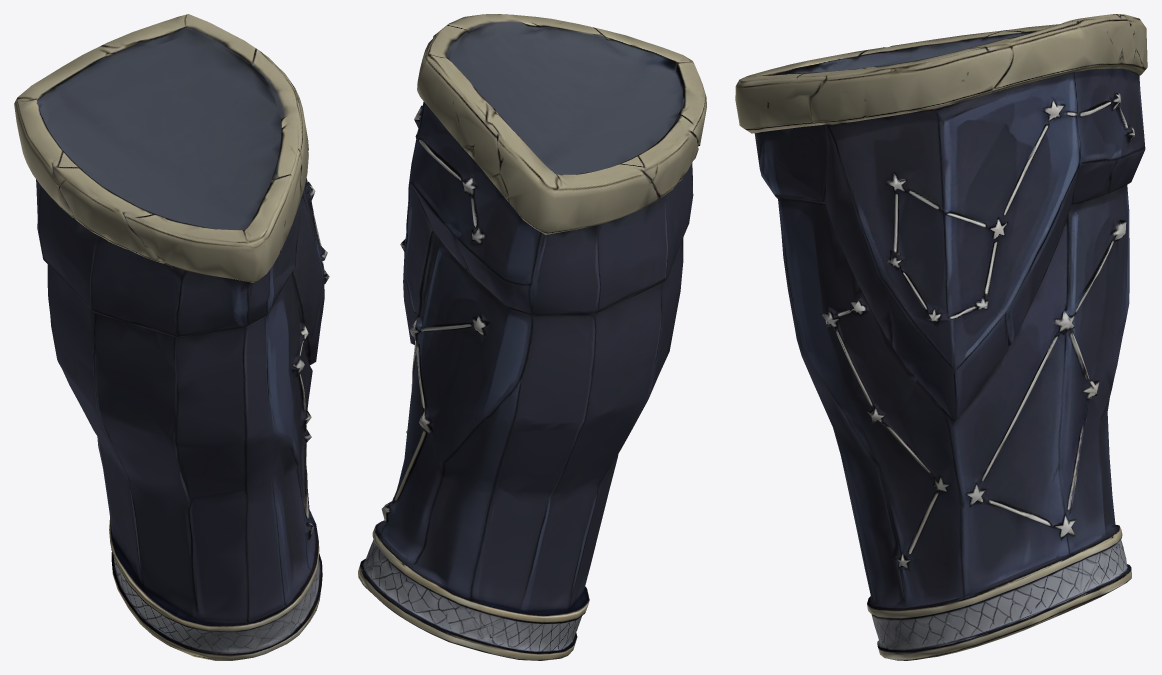
Rendered from boss_thigh.glb.
3 renders of one model, left to right at view 1: azimuth 30°, elevation 25°; view 2: azimuth 150°, elevation 25°; view 3: azimuth 270°, elevation 25°, orthographic. The views are drawn at different scales.
Visible parts, largest first — view 1: tripo_node_38315b99-1ad6-4107-8e36-4695ac2e2f63; view 2: tripo_node_38315b99-1ad6-4107-8e36-4695ac2e2f63; view 3: tripo_node_38315b99-1ad6-4107-8e36-4695ac2e2f63.
Part boxes in pixels (box(x1,y1,x2,y2)): tripo_node_38315b99-1ad6-4107-8e36-4695ac2e2f63: box(14, 14, 329, 660); tripo_node_38315b99-1ad6-4107-8e36-4695ac2e2f63: box(358, 14, 706, 660); tripo_node_38315b99-1ad6-4107-8e36-4695ac2e2f63: box(735, 14, 1147, 660).
Bounding box in the file's own units: 0.4569 × 1 × 0.5838.
1 material, 1 textured.
